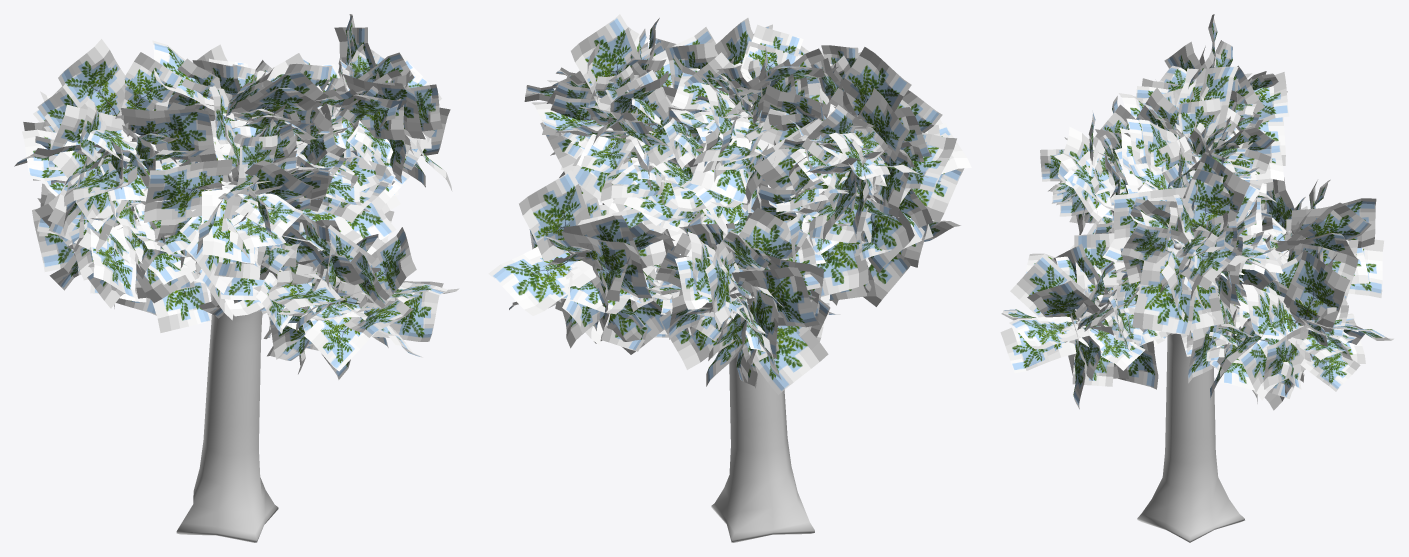
The model's file is boomheel.fbx.
The picture shows the model from 3 angles, left to right: view 1: azimuth 30°, elevation 25°; view 2: azimuth 150°, elevation 25°; view 3: azimuth 270°, elevation 25°; orthographic projection. The views are drawn at different scales.
Visible parts, largest first — view 1: og, Vert; view 2: og, Vert; view 3: og, Vert.
Boxes of the visible parts, left/top/right/bottom form: og: left=14, top=14, right=459, bottom=379; Vert: left=176, top=173, right=278, bottom=542; og: left=488, top=14, right=971, bottom=394; Vert: left=568, top=250, right=814, bottom=542; og: left=1000, top=14, right=1393, bottom=410; Vert: left=1076, top=230, right=1290, bottom=542.
Size of the model in its own units: 7.37 by 8.58 by 6.66.
